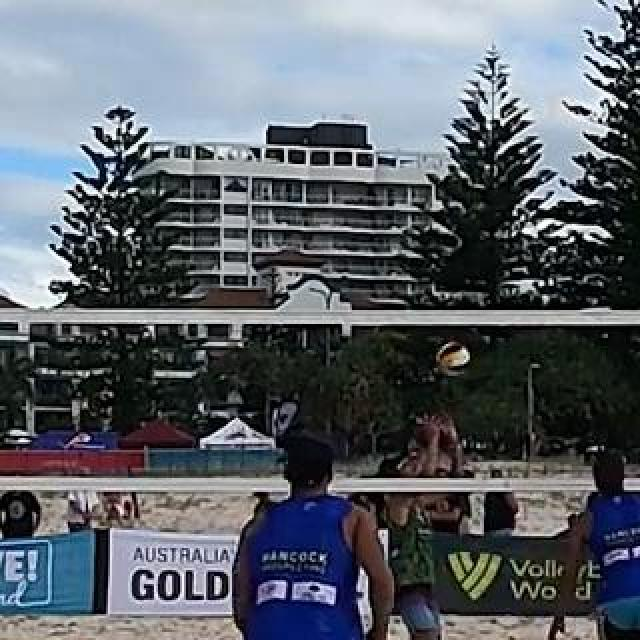volleyball: (438, 345, 470, 375)
